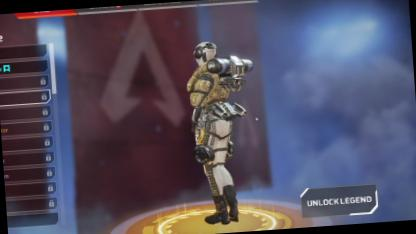Target: (184, 37, 256, 193)
